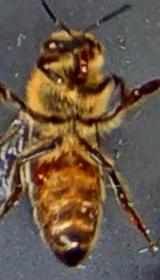varroa_mite: (24, 163, 58, 192), (68, 157, 98, 175)
